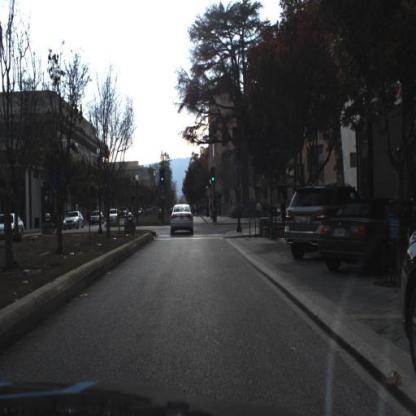car: (315, 191, 405, 274), (281, 182, 369, 263), (170, 203, 195, 237), (1, 213, 26, 242), (62, 209, 85, 230), (88, 210, 106, 227)
pedestrian: (256, 198, 264, 225)
trafficLight-Green: (161, 167, 166, 187), (211, 168, 216, 186)
